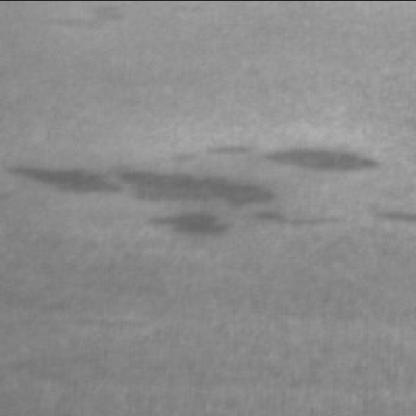inclusion: (8, 156, 346, 235), (204, 133, 387, 179), (143, 199, 240, 242), (48, 2, 129, 46), (370, 204, 416, 227)
